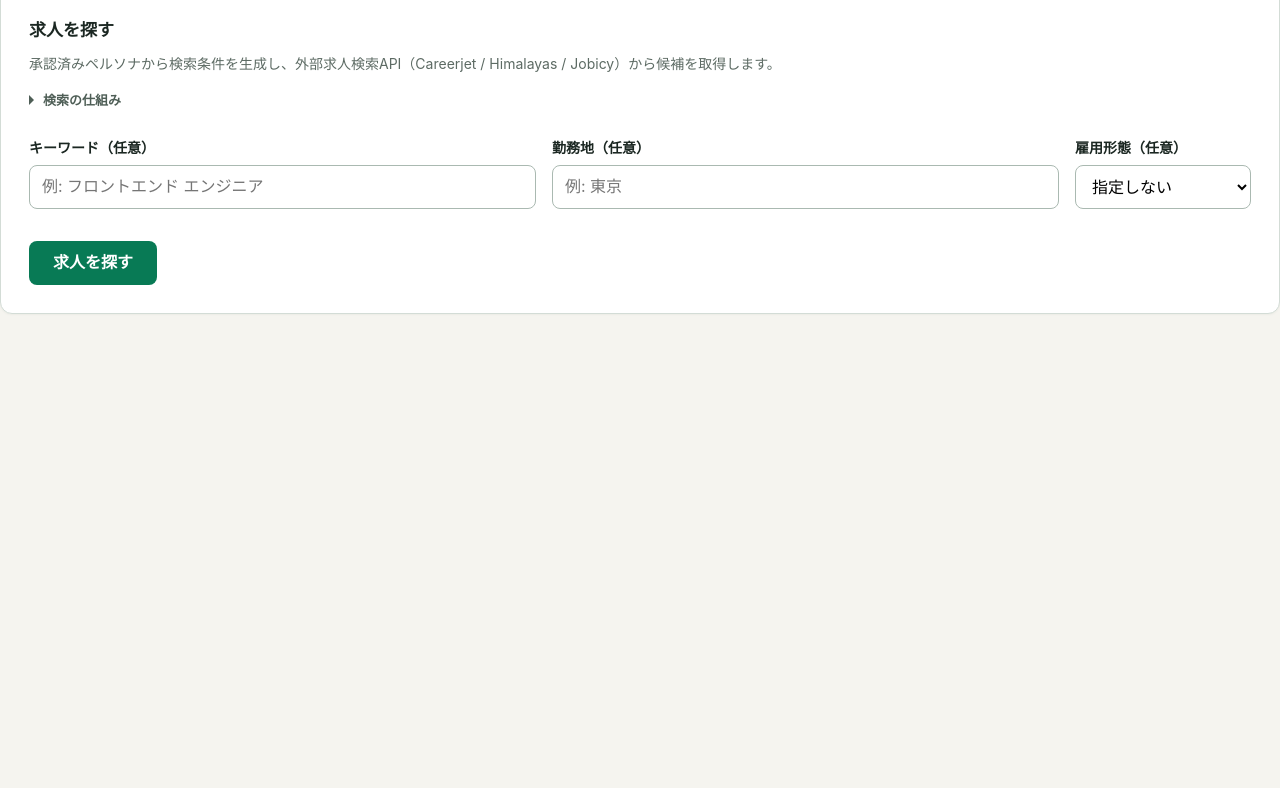
Test: JobDiscovery one-click scoring (#115) › shows per-card error and allows retry without breaking other cards
Step 1. Click the button "求人を探す" → (93, 263), box top-left (29, 241), bottom-right (157, 285)
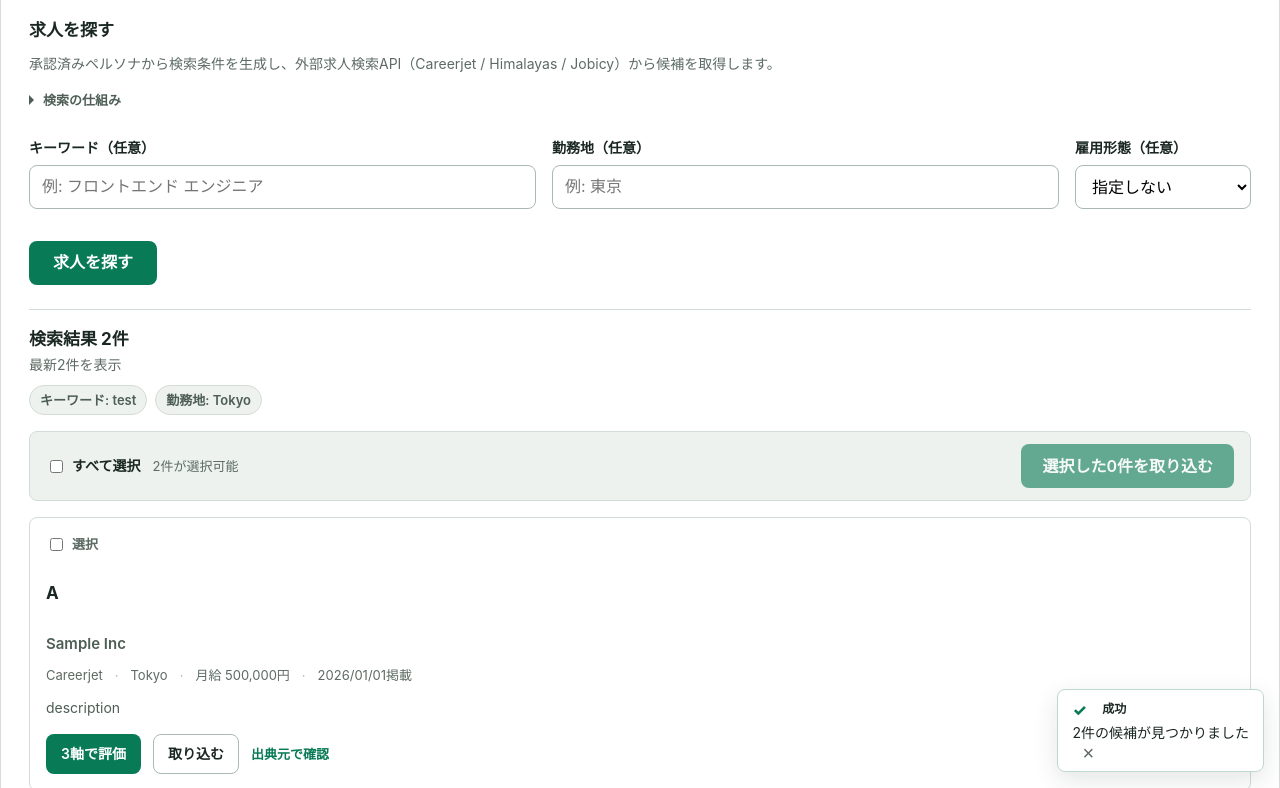
Now the heading "A" is shown, box top-left (46, 583), bottom-right (59, 603)
Now the number of buttons "3軸で評価" is 2
fail first
Step 2. Click the button "3軸で評価" → (93, 754), box top-left (46, 734), bottom-right (141, 774)
(page scrolled)
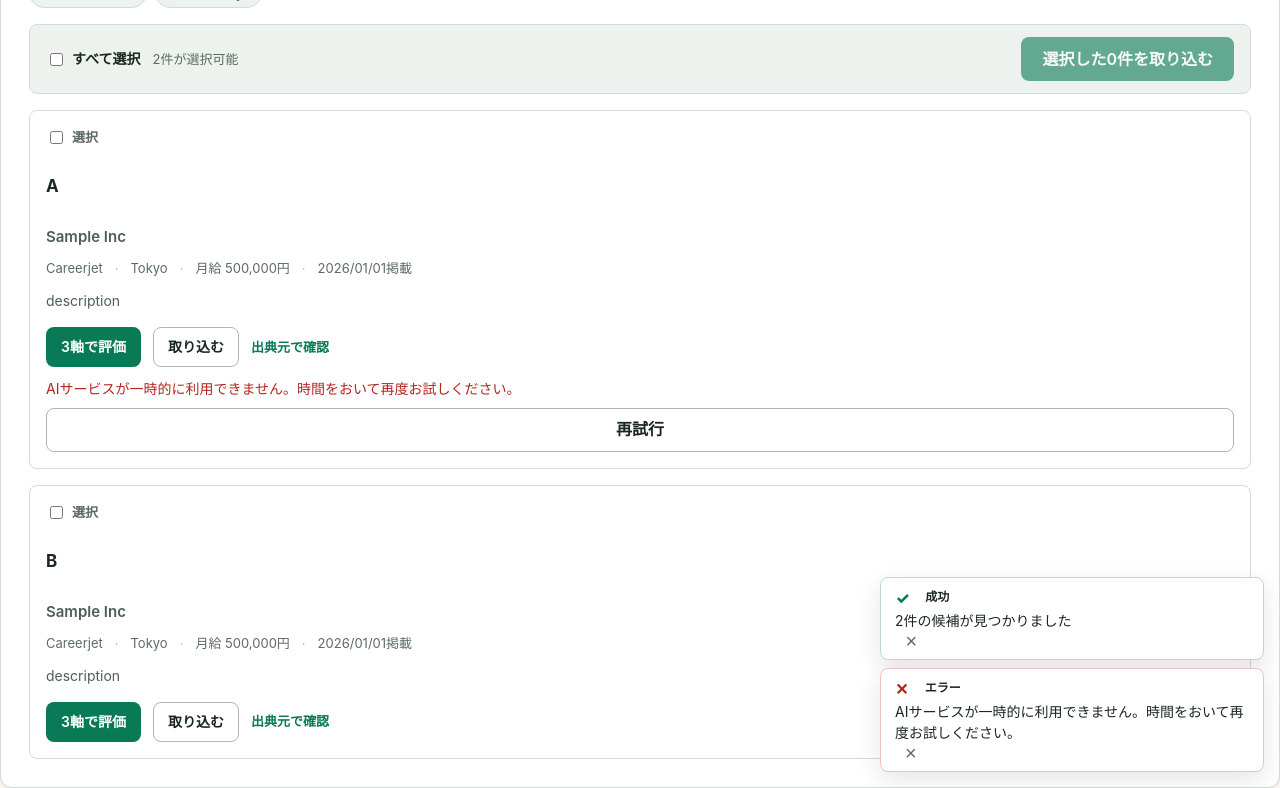
Now the button "再試行" is shown, box top-left (46, 408), bottom-right (1234, 452)
second should succeed
Step 3. Click the 2nd button "3軸で評価" → (93, 722), box top-left (46, 702), bottom-right (141, 742)
(page scrolled)
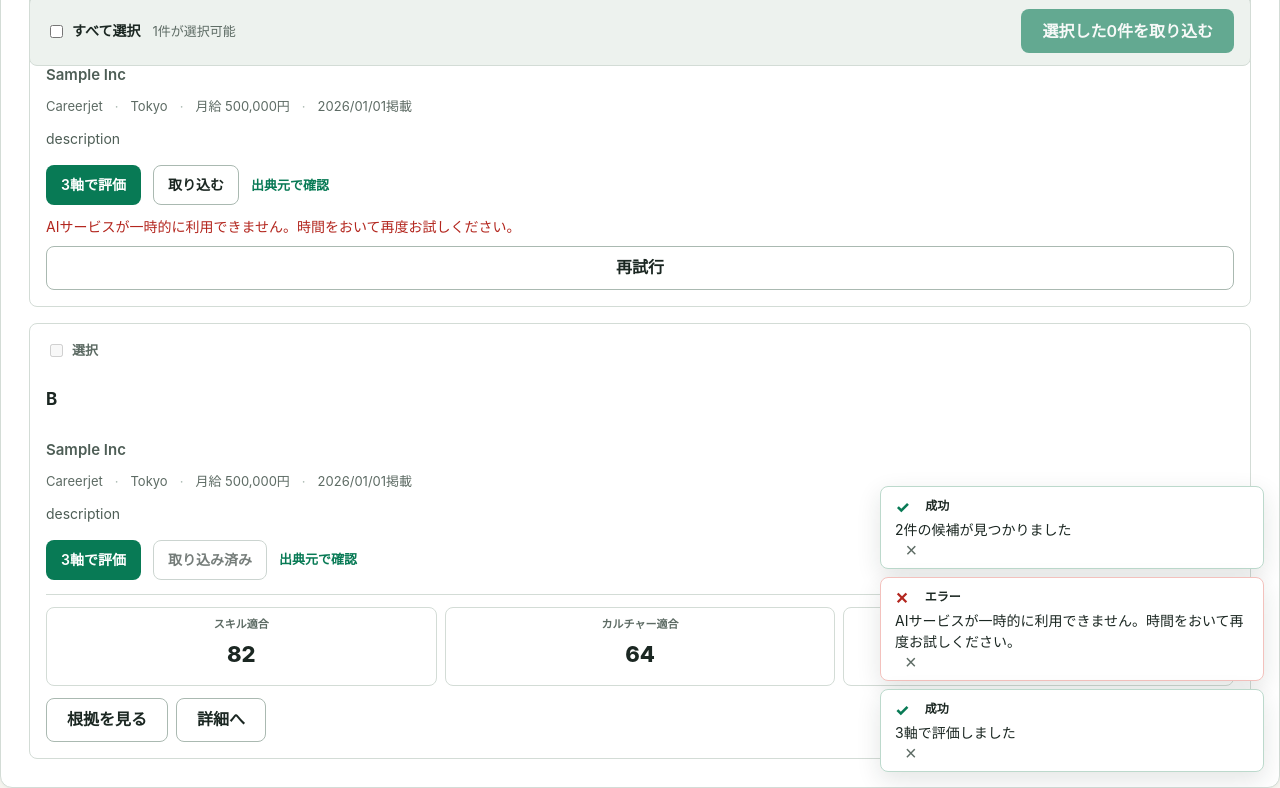
Now the button "再試行" is shown, box top-left (46, 246), bottom-right (1234, 290)
Now the text "82" is shown, box top-left (227, 641), bottom-right (256, 667)
